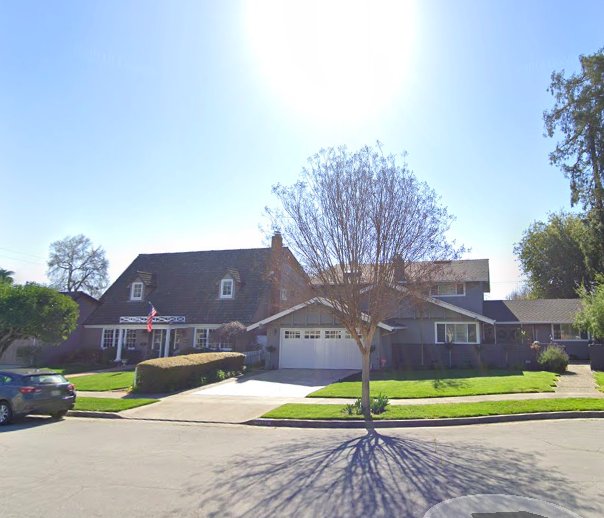tree: (248, 138, 473, 415)
